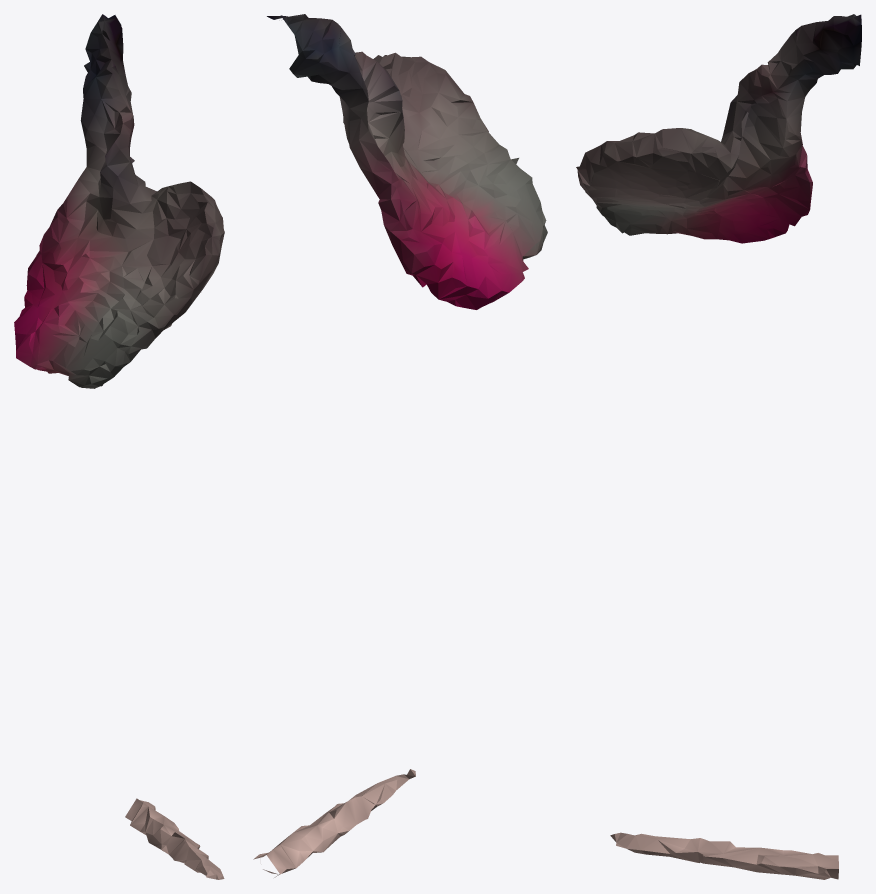
File: prep_run__upper_fridge_left.scan.glb
3 renders of one model, left to right at view 1: azimuth 30°, elevation 25°; view 2: azimuth 150°, elevation 25°; view 3: azimuth 270°, elevation 25°, orthographic. The views are drawn at different scales.
Parts seen in each view (by area): view 1: geometry_0; view 2: geometry_0; view 3: geometry_0.
Part boxes in pixels (x1,y1,x2,y2): geometry_0: [14, 14, 224, 879]; geometry_0: [253, 14, 547, 877]; geometry_0: [576, 14, 861, 879].
Bounding box in the file's own units: 0.1251 × 0.5227 × 0.1589.
